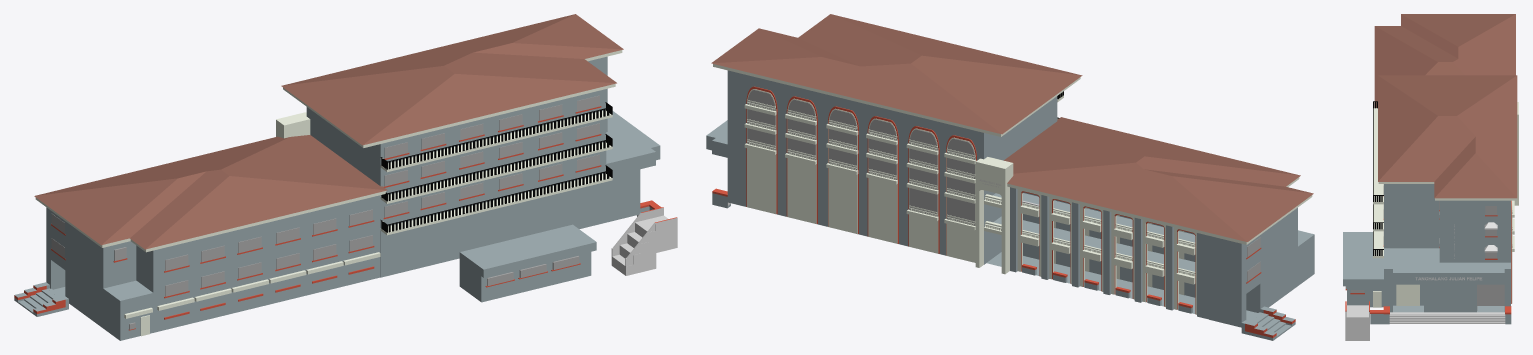
File: JFH.fbx
The picture shows the model from 3 angles, left to right: view 1: azimuth 30°, elevation 25°; view 2: azimuth 150°, elevation 25°; view 3: azimuth 270°, elevation 25°; orthographic projection. The views are drawn at different scales.
Parts seen in each view (by area): view 1: Cube, Cube.172, Cube.039, Cube.173, Cube.011, Cube.159, Cube.010, Cube.012, Cube.032, Cube.031, Cube.096, Cube.169; view 2: Cube.172, Cube.173, Cube, Cube.039, Cube.043, Cube.036, Cube.038, Cube.037, Cube.096, Cube.107, Cube.099, Cube.106 (+15 smaller); view 3: Cube.172, Cube, Cube.173, Cube.011, Cube.156, Cube.159, Cube.010, Cube.186, Cube.032, Cube.031, Cube.012, Cube.043 (+6 smaller).
Part boxes in pixels (x1,y1,x2,y2): Cube: (306,56,660,277); Cube.172: (281,14,623,147); Cube.039: (46,195,380,340); Cube.173: (34,135,387,252); Cube.011: (459,224,596,277); Cube.159: (611,207,677,275); Cube.010: (380,102,612,172); Cube.012: (380,165,612,235); Cube.032: (459,252,591,302); Cube.031: (380,134,612,203); Cube.096: (276,112,310,138); Cube.169: (18,288,62,313); Cube.172: (711,14,1082,136); Cube.173: (1004,117,1313,244); Cube: (706,70,1057,264); Cube.039: (986,192,1314,327); Cube.043: (744,86,777,214); Cube.036: (866,116,898,243); Cube.038: (785,96,817,223); Cube.037: (826,106,858,233); Cube.096: (975,157,1013,274); Cube.107: (909,129,937,216); Cube.099: (947,138,974,225); Cube.106: (909,128,938,253); Cube.172: (1378,75,1517,200); Cube: (1384,184,1510,312); Cube.173: (1374,14,1515,107); Cube.011: (1343,232,1383,286); Cube.156: (1389,312,1505,323); Cube.159: (1345,301,1369,340); Cube.010: (1373,101,1383,204); Cube.186: (1477,284,1504,305); Cube.032: (1347,286,1383,307); Cube.031: (1373,204,1383,231); Cube.012: (1373,231,1383,258); Cube.043: (1511,200,1514,303).
Bounding box in the file's own units: 35684 × 11290 × 11004.
